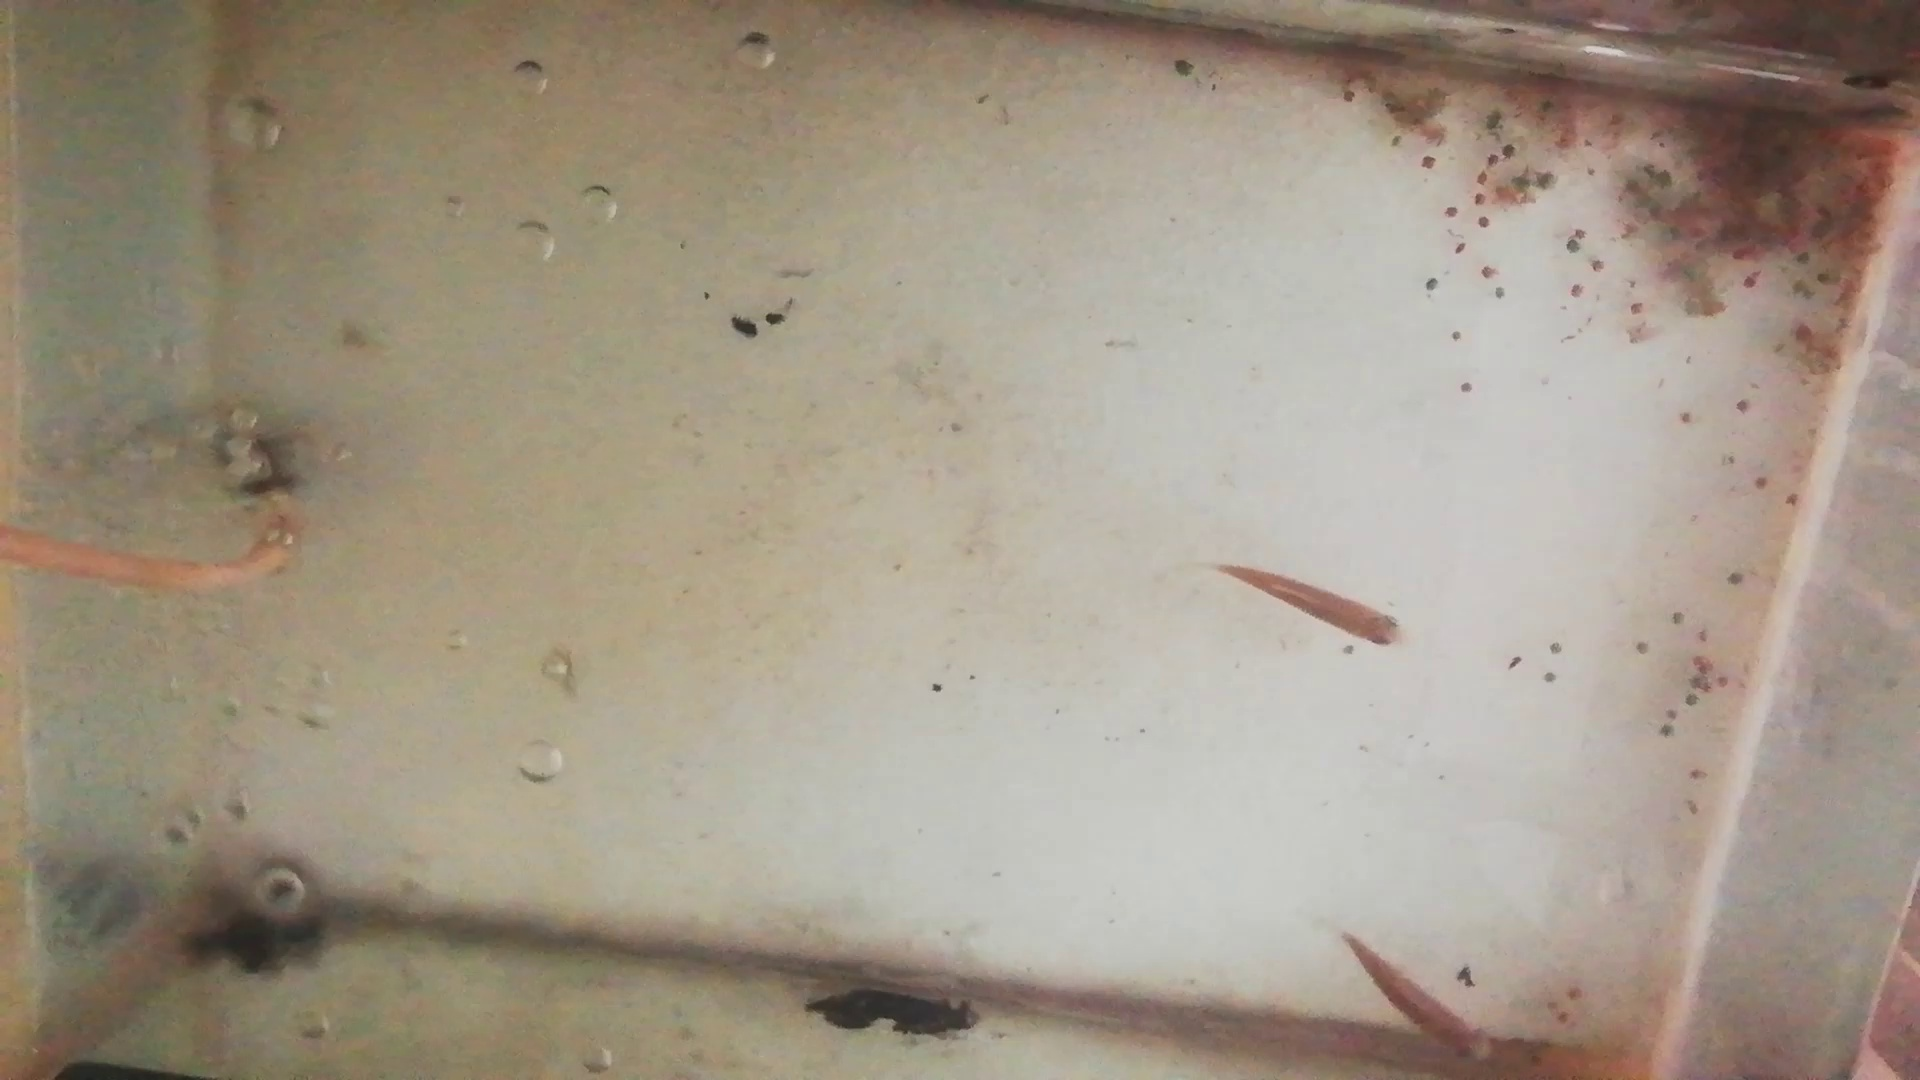fish: (1337, 934, 1495, 1060), (1216, 564, 1408, 649)
